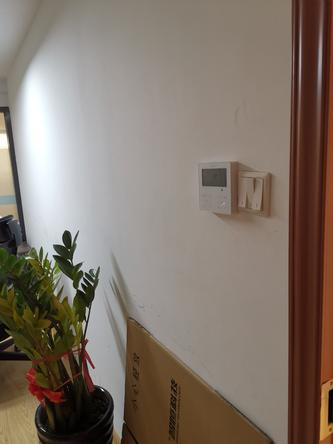switch: (252, 177, 267, 212), (238, 174, 248, 209)
